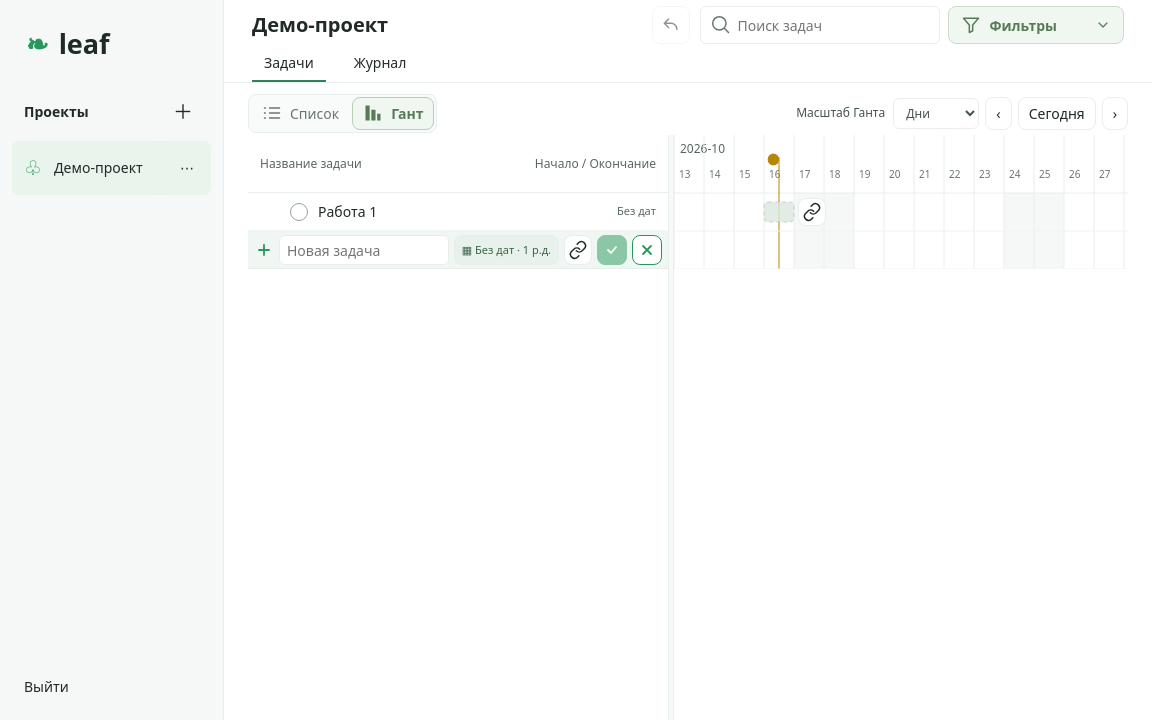
Test case: U06 shows reset only for an applied period, labels the applied range and reset clears it
Check: the heading "Демо-проект" is shown, box [252,11,388,38]
Click the tab "Журнал".
click(380, 63)  # box [342,44,418,82]
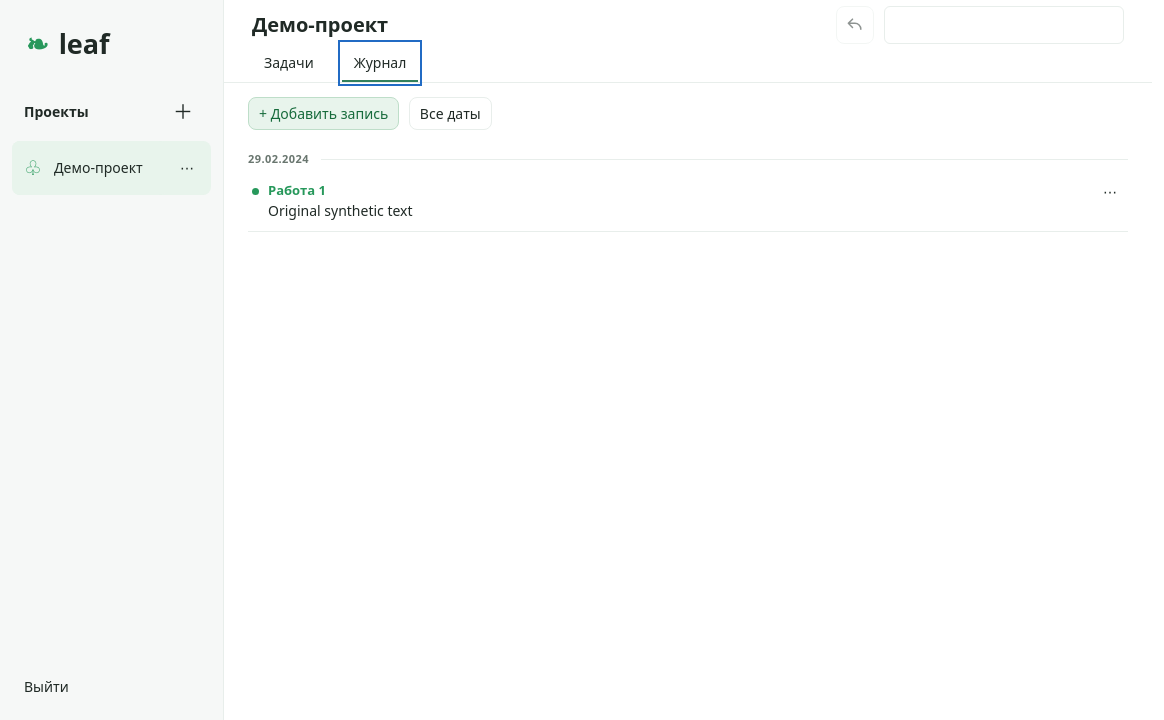
Check: the button "Сбросить" is not shown
Check: the text "Original synthetic text" is shown, box [268,201,413,220]
Check: the text "+" is shown, box [259,104,271,122]
Click the button with aria-label "Период: Все даты".
click(450, 113)  # box [409,96,492,130]
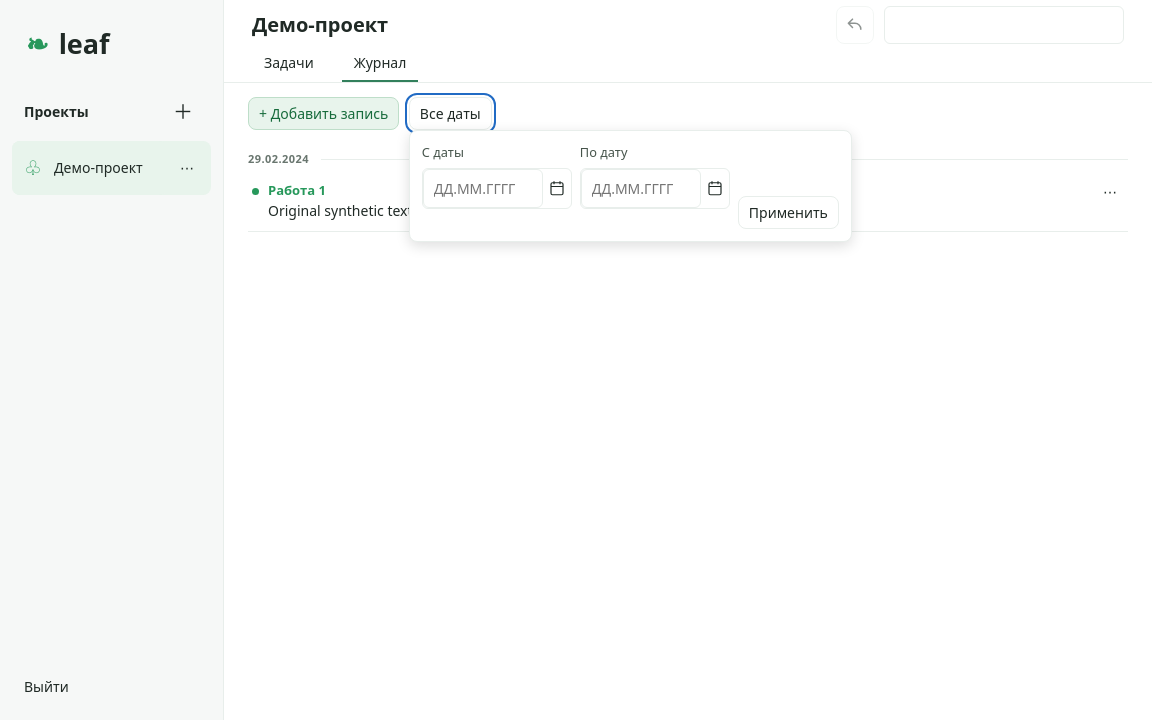
Type "2026-10-01" into the field labelled "С даты".
click(483, 188); type("2026-10-01")  # box [423,169,543,208]
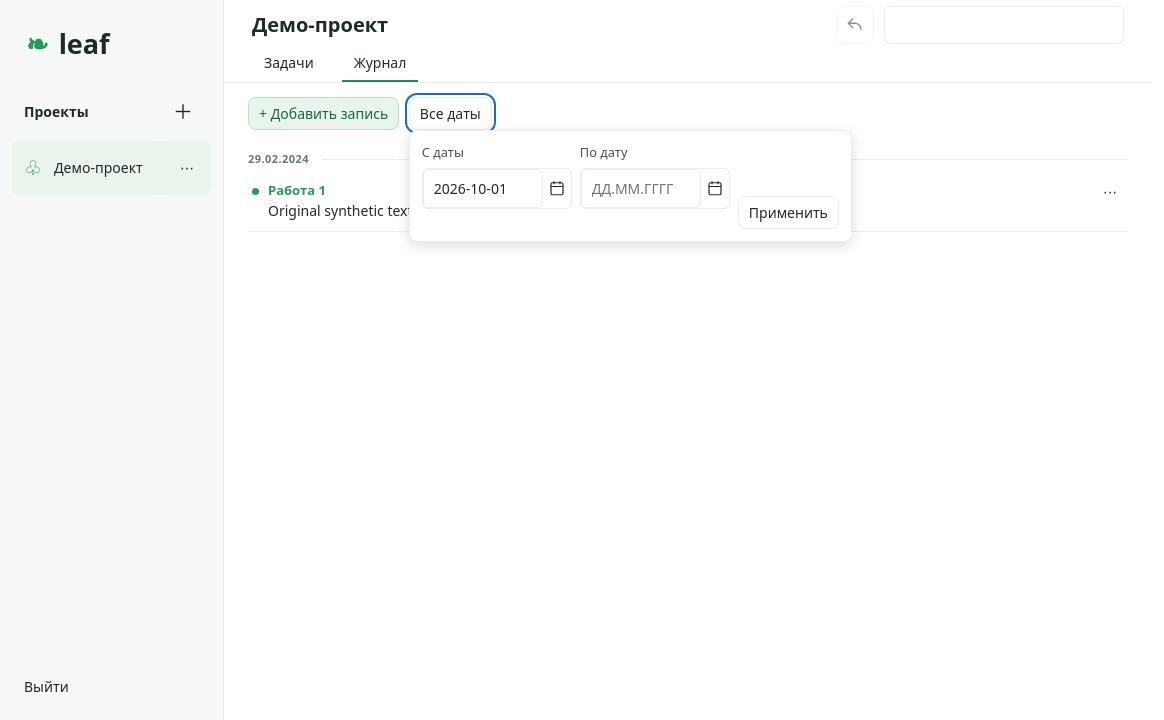
Check: the button "Сбросить" is not shown
Check: the button with aria-label "Период: Все даты" is shown, box [409,96,492,130]
Click the button "Применить".
click(788, 212)  # box [738,196,839,229]
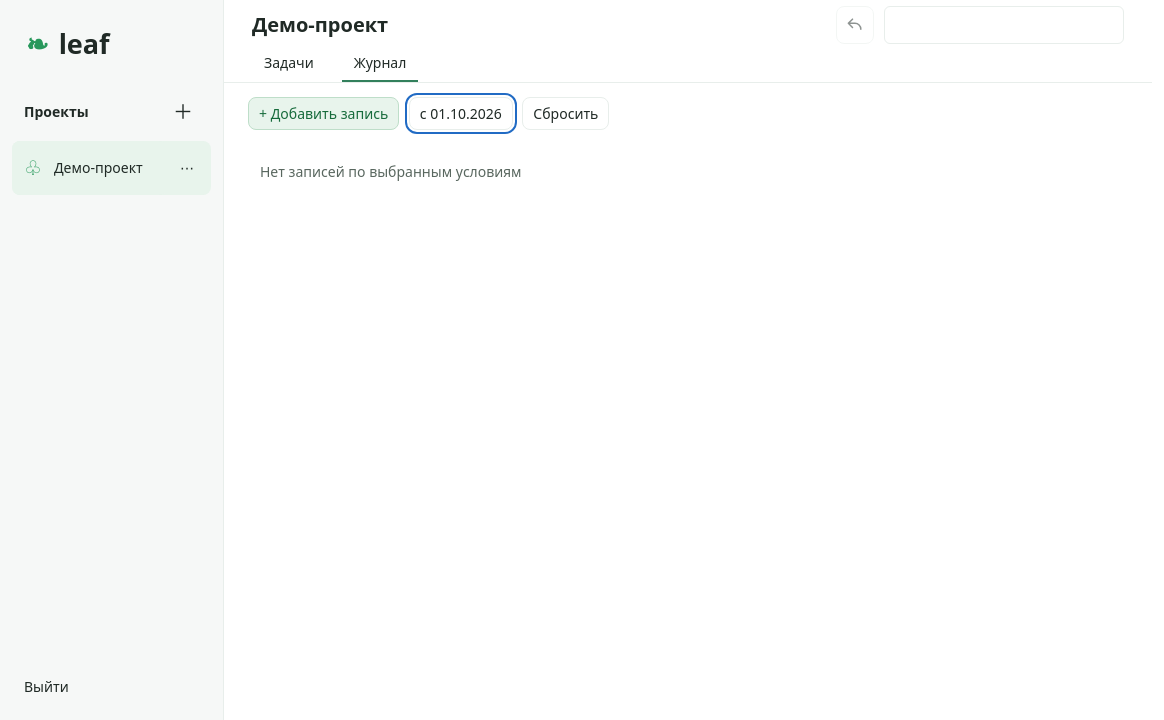
Check: the button named "Период: с 01.10.2026" is shown, box [409,96,513,130]
Click the button "Сбросить".
click(566, 113)  # box [522,96,609,130]
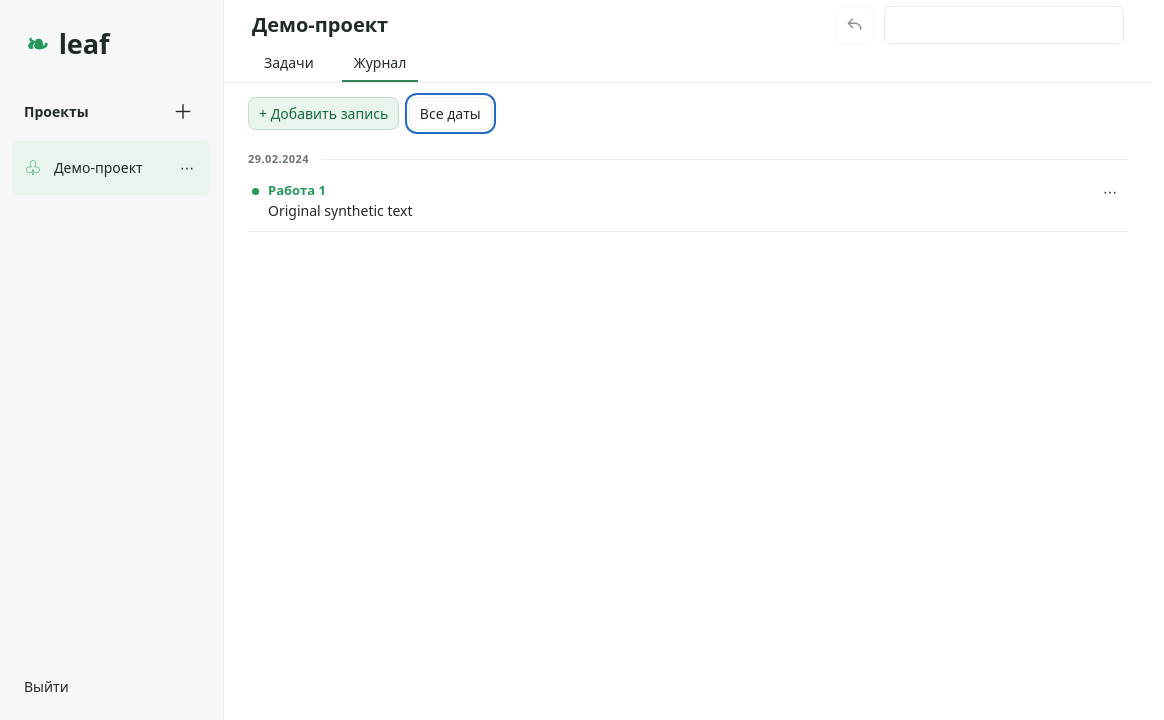
Check: the button "Сбросить" is gone
